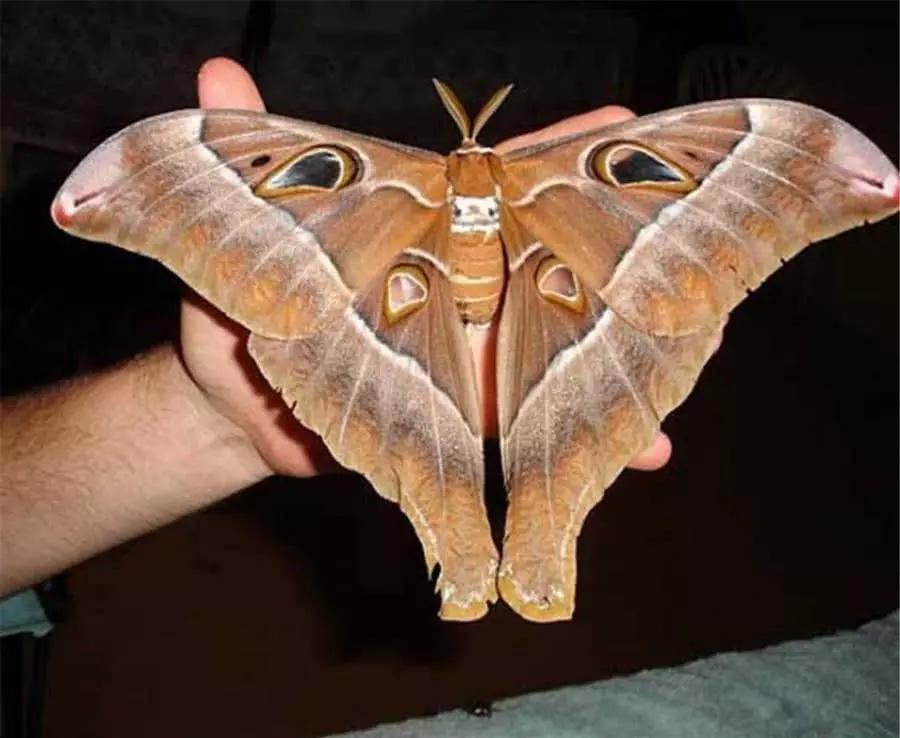feie: (63, 71, 890, 617)
